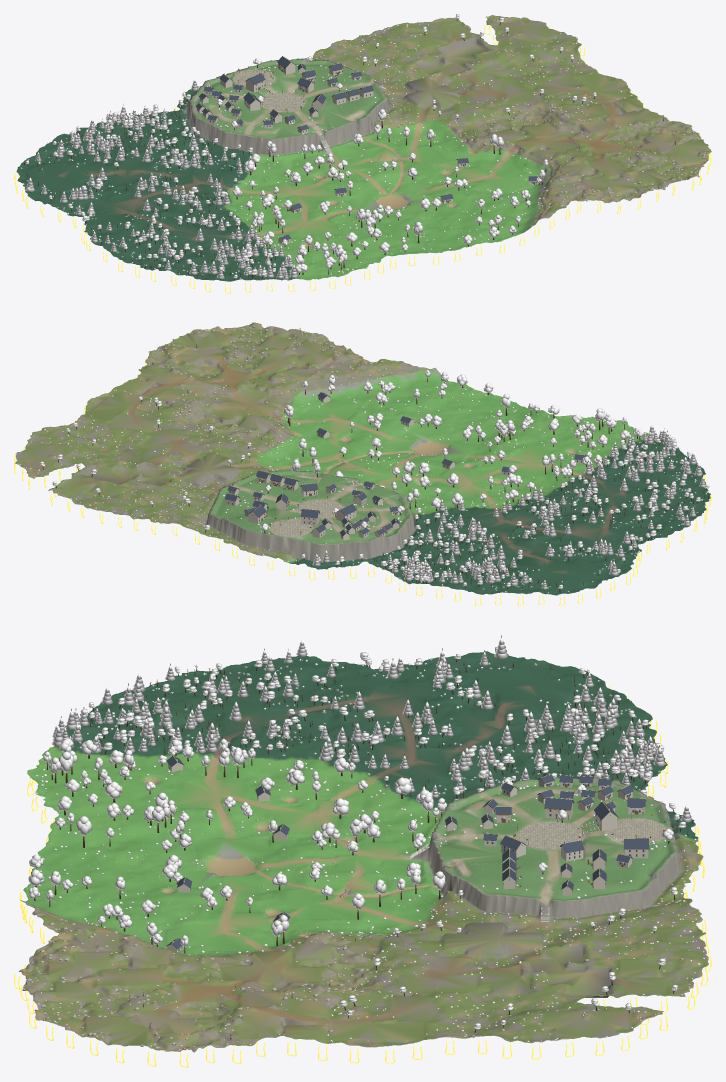
Rendered from orsane.glb.
3 renders of one model, top to bottom at view 1: azimuth 30°, elevation 25°; view 2: azimuth 150°, elevation 25°; view 3: azimuth 270°, elevation 25°, orthographic. The views are drawn at different scales.
Visible parts, largest first — view 1: mo_sol_jeu, mo_objets_reunis, mo_agrafes_reunies, mo_sol_pave_0; view 2: mo_sol_jeu, mo_objets_reunis, mo_agrafes_reunies, mo_sol_pave_1, mo_sol_pave_0; view 3: mo_sol_jeu, mo_objets_reunis, mo_agrafes_reunies, mo_sol_pave_0, mo_sol_pave_1.
Boxes of the visible parts, <box> form: mo_sol_jeu: <box>16,15,711,281</box>; mo_objets_reunis: <box>195,56,586,243</box>; mo_agrafes_reunies: <box>14,18,711,293</box>; mo_sol_pave_0: <box>260,93,305,111</box>; mo_sol_jeu: <box>15,322,710,595</box>; mo_objets_reunis: <box>137,391,586,540</box>; mo_agrafes_reunies: <box>14,325,711,606</box>; mo_sol_pave_1: <box>270,519,312,537</box>; mo_sol_pave_0: <box>297,499,343,518</box>; mo_sol_jeu: <box>19,651,708,1052</box>; mo_objets_reunis: <box>166,755,665,1017</box>; mo_agrafes_reunies: <box>14,686,711,1067</box>; mo_sol_pave_0: <box>518,821,584,849</box>; mo_sol_pave_1: <box>605,818,666,843</box>.
Size of the model in its own units: 418 by 33.25 by 302.
